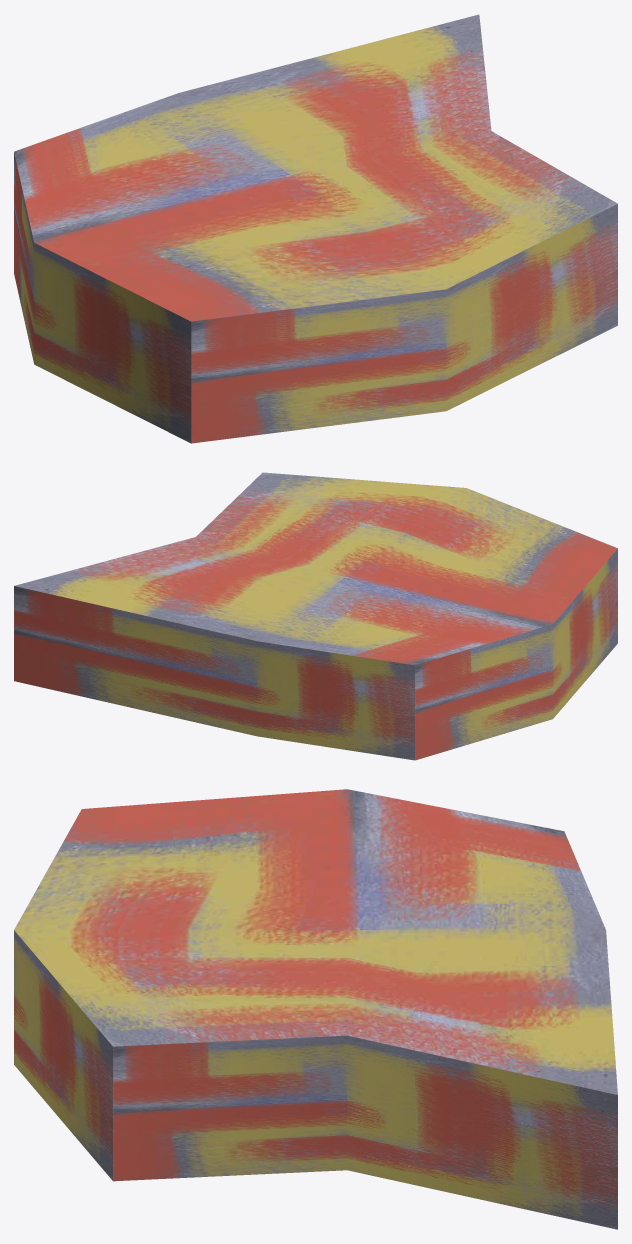
The model's file is Collectible5.FBX.
3 views of the same model, one above another, from view 1: azimuth 30°, elevation 25°; view 2: azimuth 150°, elevation 25°; view 3: azimuth 270°, elevation 25° (orthographic). The views are drawn at different scales.
Visible parts, largest first — view 1: Box002; view 2: Box002; view 3: Box002.
Part boxes in pixels (left/top/right/bottom): Box002: left=14, top=14, right=617, bottom=443; Box002: left=14, top=472, right=617, bottom=760; Box002: left=14, top=789, right=617, bottom=1229.
Size of the model in its own units: 4.34 by 3.62 by 0.8915.
1 material, 1 textured.
